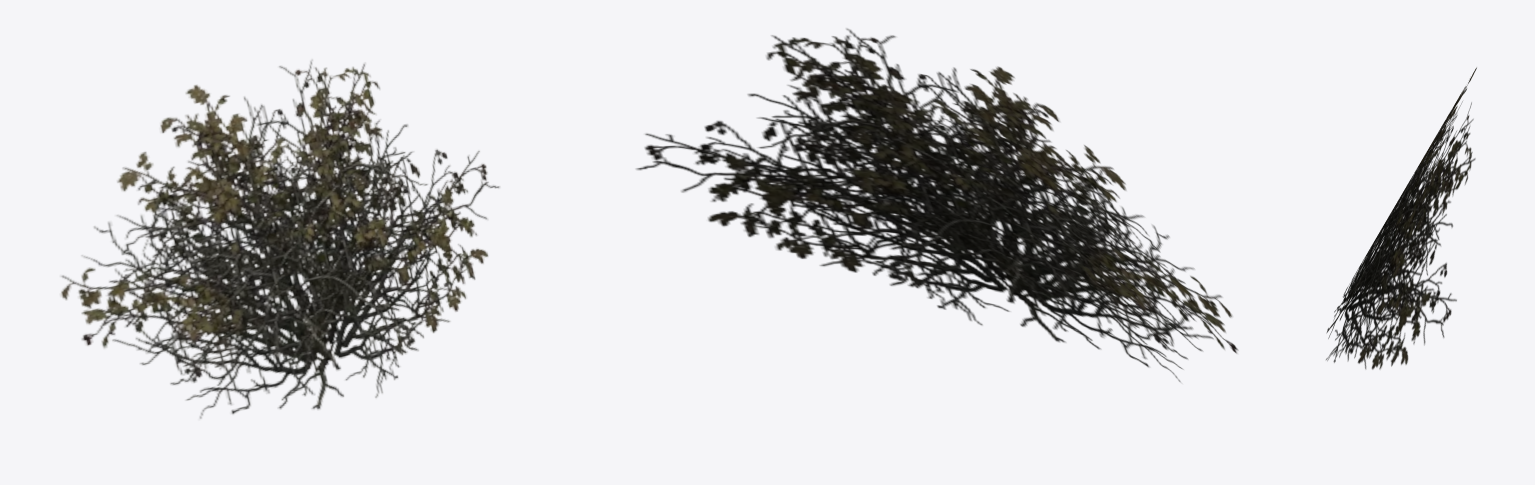
Rendered from courtyard_bush.glb.
3 renders of one model, left to right at view 1: azimuth 30°, elevation 25°; view 2: azimuth 150°, elevation 25°; view 3: azimuth 270°, elevation 25°, orthographic. The views are drawn at different scales.
Visible parts, largest first — view 1: courtyard_bush; view 2: courtyard_bush; view 3: courtyard_bush.
Boxes of the visible parts, x1=… form: courtyard_bush: x1=60, y1=59, x2=500, y2=419; courtyard_bush: x1=636, y1=28, x2=1238, y2=382; courtyard_bush: x1=1326, y1=67, x2=1476, y2=369.
Size of the model in its own units: 1.6 by 1.06 by 0.6788.
Materials: 1 (1 with a texture image).
